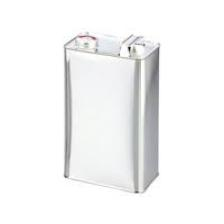metal: (46, 26, 166, 199)
